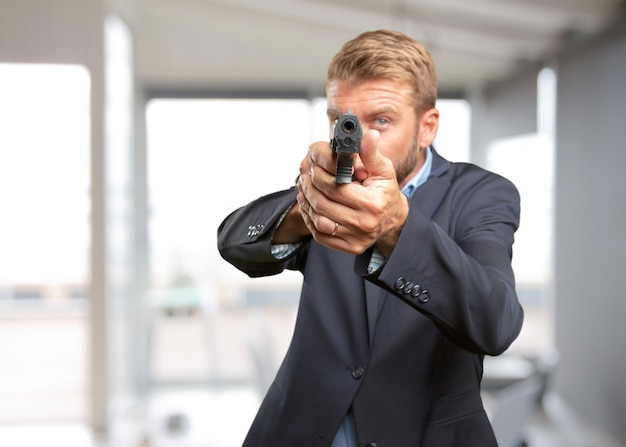gun: (330, 108, 363, 185)
